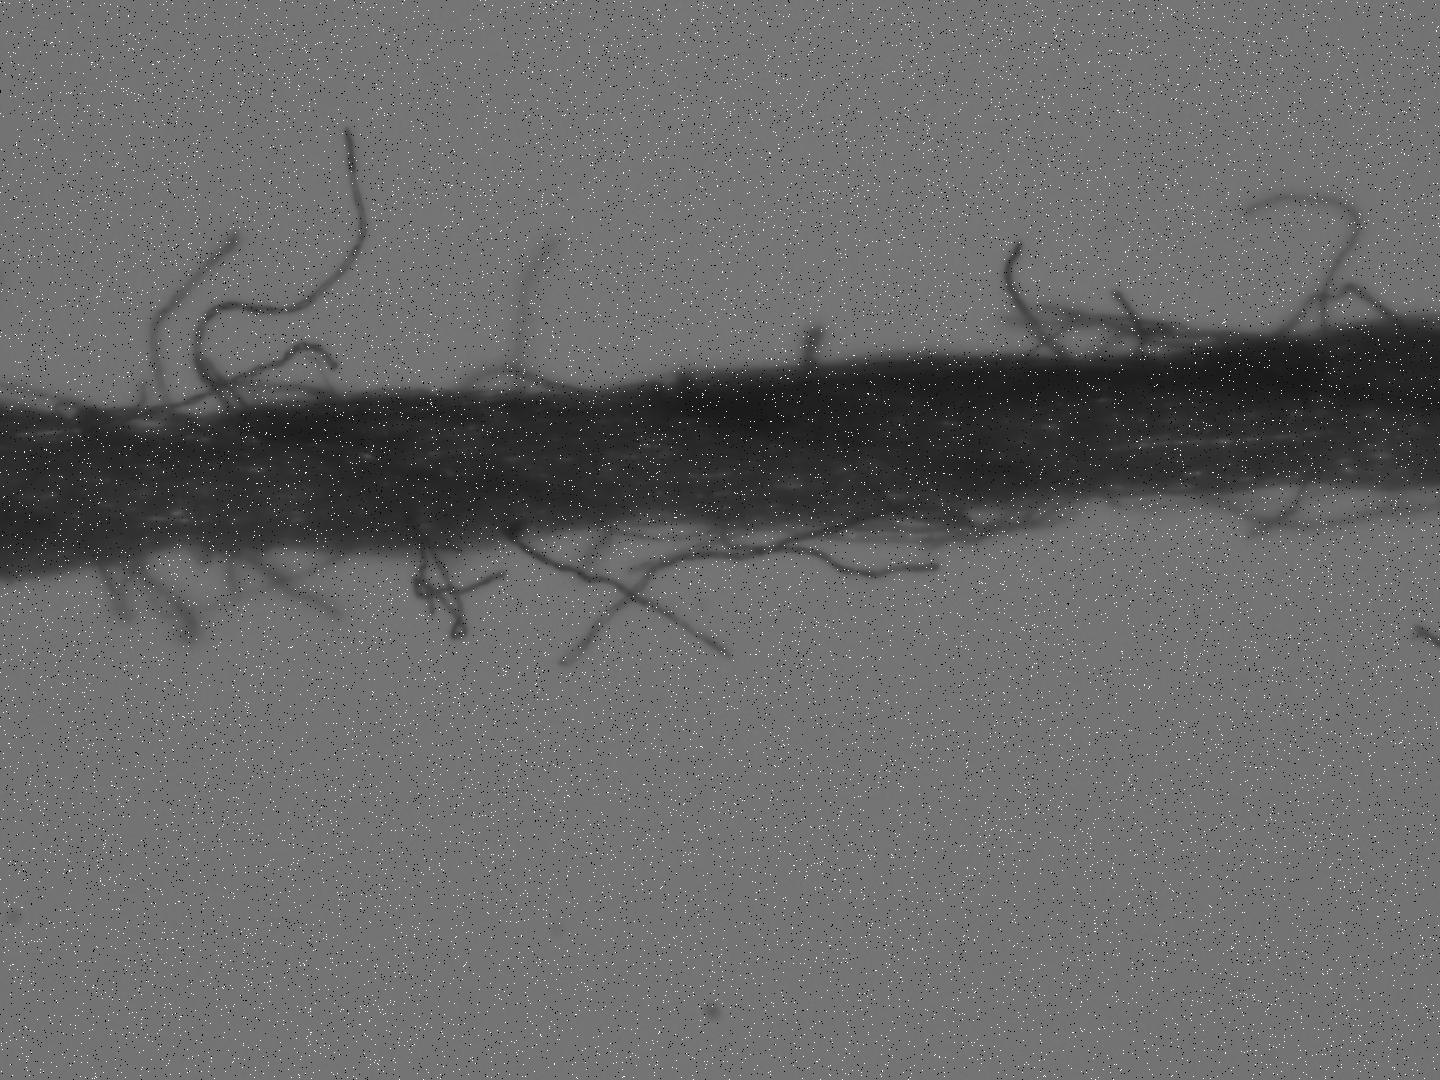loop_fiber: (94, 535, 346, 640), (578, 493, 1094, 543), (1104, 481, 1440, 539), (1017, 296, 1285, 368), (1273, 276, 1416, 346), (1, 372, 126, 436), (202, 358, 349, 411), (405, 540, 473, 647), (455, 363, 601, 396), (794, 320, 830, 373)
protruding_fiber: (552, 505, 896, 669), (195, 111, 373, 411), (503, 522, 738, 665), (149, 219, 246, 430), (128, 337, 340, 424), (1247, 191, 1366, 340), (709, 514, 940, 582), (1000, 233, 1078, 362), (219, 539, 350, 615), (510, 235, 564, 397)
